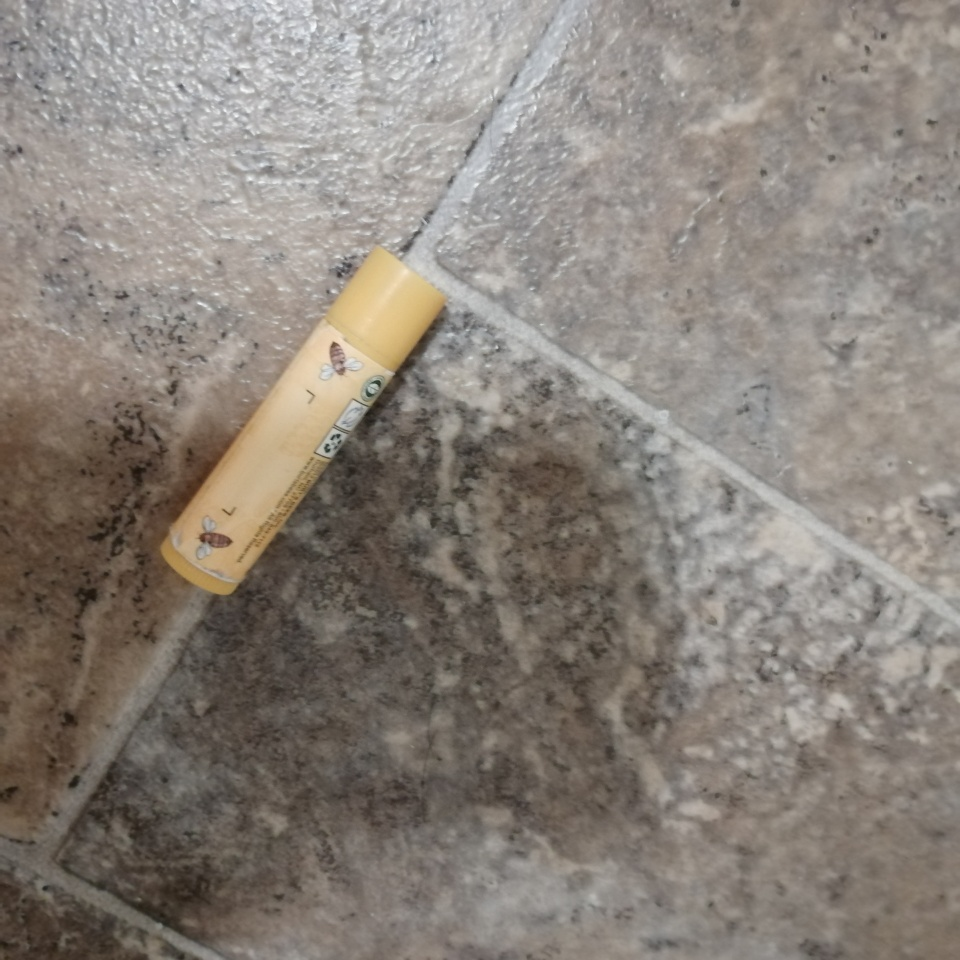chapstick: (161, 244, 449, 596)
